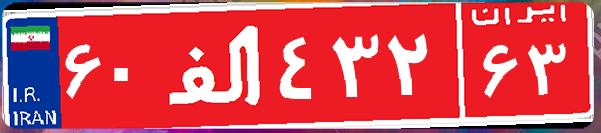0: (110, 28, 158, 105)
2: (385, 28, 445, 110)
3: (330, 28, 385, 110), (525, 38, 570, 115)
4: (273, 28, 330, 110)
6: (57, 26, 110, 107), (475, 38, 525, 113)
الف: (158, 15, 273, 115)
